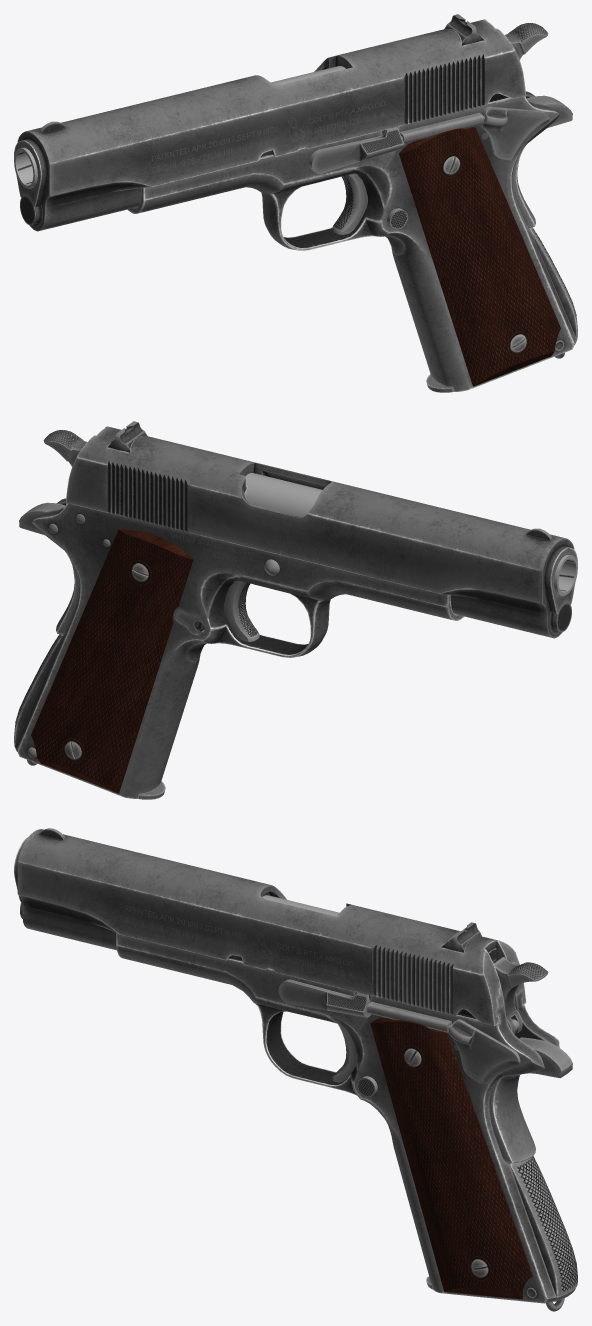
Rendered from colt_m1911a1.glb.
3 views of the same model, one above another, from view 1: azimuth 30°, elevation 25°; view 2: azimuth 150°, elevation 25°; view 3: azimuth 330°, elevation 25° (orthographic).
Visible parts, largest first — view 1: Slide, Pistol Grip L_1911magazine_0, Frame_1911frame_0, Safety Lock, Slide Stop, Trigger_1911frame_0, Barrel, Bever Tail, Plunger Tube, Mainspring Housing_1911frame_0, Barrel Bushing_1911slide_0, Hammer (+3 smaller); view 2: Slide, Frame_1911frame_0, Pistol Grip R_1911magazine_0, Barrel, Trigger_1911frame_0, Bever Tail, Mainspring Housing_1911frame_0, Barrel Bushing_1911slide_0, Hammer, Iron Sights, Plug, Pistol Grip R Screws_1911magazine_0; view 3: Slide, Pistol Grip L_1911magazine_0, Frame_1911frame_0, Mainspring Housing_1911frame_0, Bever Tail, Safety Lock, Slide Stop, Hammer, Plunger Tube, Iron Sights, Trigger_1911frame_0.
Boxes of the visible parts, box(x1,y1,x2,y2) form: Slide: box(17, 19, 526, 231); Pistol Grip L_1911magazine_0: box(399, 127, 560, 386); Frame_1911frame_0: box(127, 91, 576, 391); Safety Lock: box(480, 106, 549, 160); Slide Stop: box(309, 127, 404, 174); Trigger_1911frame_0: box(332, 173, 367, 234); Barrel: box(14, 66, 345, 188); Bever Tail: box(513, 95, 572, 228); Plunger Tube: box(399, 113, 483, 143); Mainspring Housing_1911frame_0: box(529, 227, 577, 344); Barrel Bushing_1911slide_0: box(14, 139, 46, 207); Hammer: box(505, 23, 548, 59); Slide: box(65, 426, 574, 638); Frame_1911frame_0: box(15, 498, 464, 798); Pistol Grip R_1911magazine_0: box(31, 529, 193, 793); Barrel: box(244, 473, 577, 595); Trigger_1911frame_0: box(224, 580, 259, 641); Bever Tail: box(19, 502, 78, 635); Mainspring Housing_1911frame_0: box(14, 634, 62, 751); Barrel Bushing_1911slide_0: box(545, 546, 577, 614); Hammer: box(43, 430, 86, 466); Iron Sights: box(109, 421, 552, 540); Plug: box(549, 602, 571, 634); Pistol Grip R Screws_1911magazine_0: box(65, 563, 148, 759); Slide: box(17, 829, 526, 1025); Pistol Grip L_1911magazine_0: box(370, 1017, 532, 1299); Frame_1911frame_0: box(116, 933, 559, 1303); Mainspring Housing_1911frame_0: box(509, 1156, 577, 1301); Bever Tail: box(489, 1037, 572, 1163); Safety Lock: box(448, 1019, 520, 1084); Slide Stop: box(278, 979, 370, 1017); Hammer: box(493, 957, 548, 1033); Plunger Tube: box(367, 1002, 451, 1032); Iron Sights: box(39, 828, 481, 951); Trigger_1911frame_0: box(332, 1024, 356, 1082).
Size of the model in its own units: 0.2344 by 0.1473 by 0.0307.
3 materials, 3 textured.
